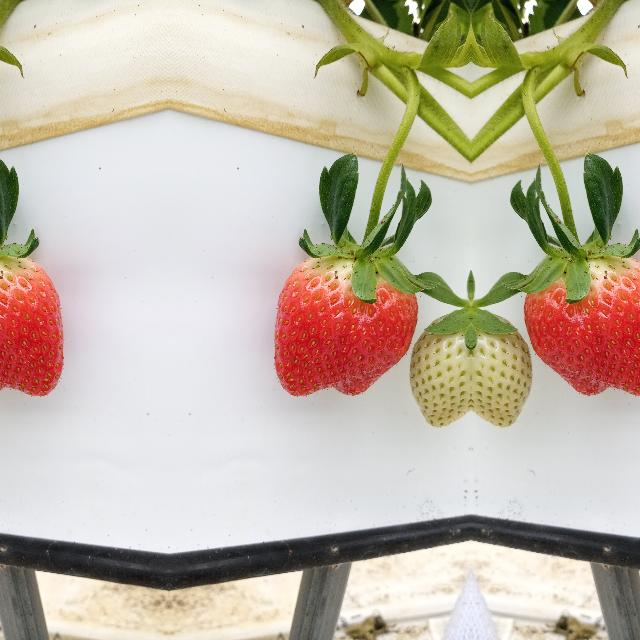Health_100: (272, 258, 418, 397), (523, 257, 640, 396), (0, 257, 64, 396)
Health_25: (414, 288, 470, 432), (472, 288, 526, 432)
